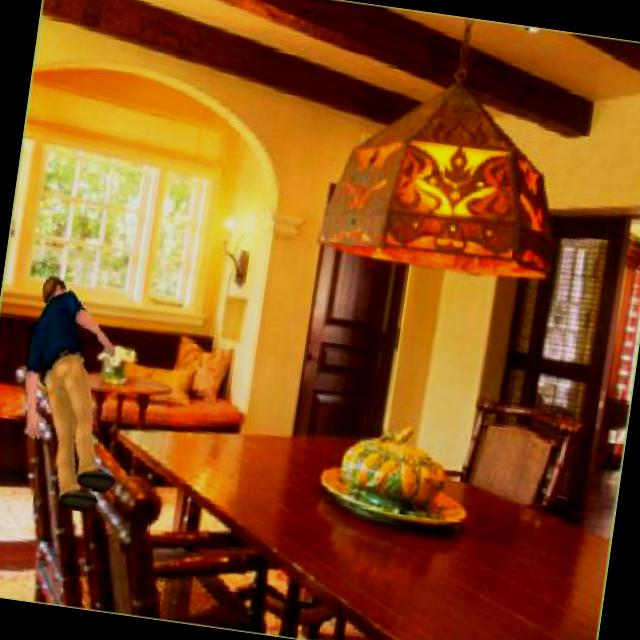Person: (5, 270, 148, 520)
